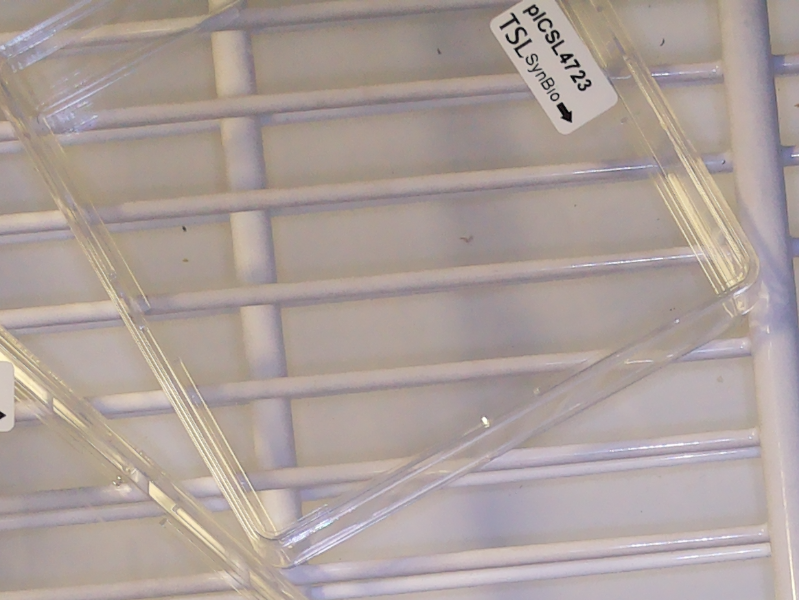plate: (1, 1, 766, 569), (1, 321, 118, 600)
